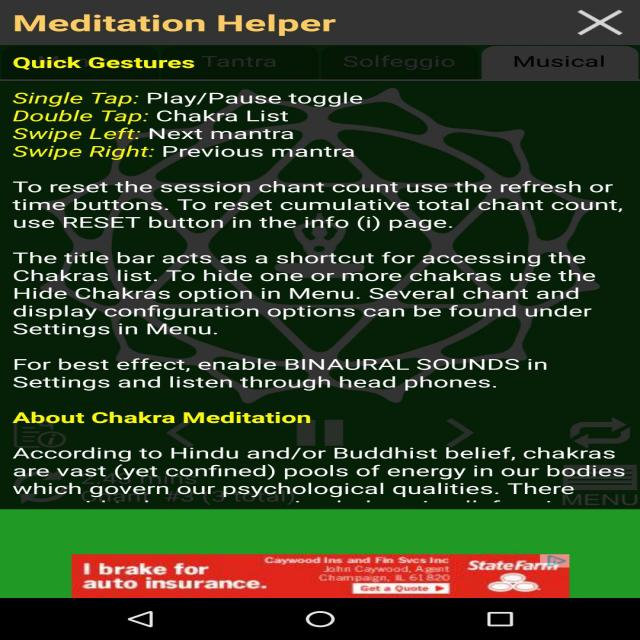button: (562, 4, 640, 42)
text: (0, 246, 610, 334), (6, 434, 620, 504), (12, 175, 632, 241), (2, 86, 399, 167), (2, 348, 566, 396), (12, 11, 368, 40), (9, 51, 232, 80), (15, 411, 336, 431)
